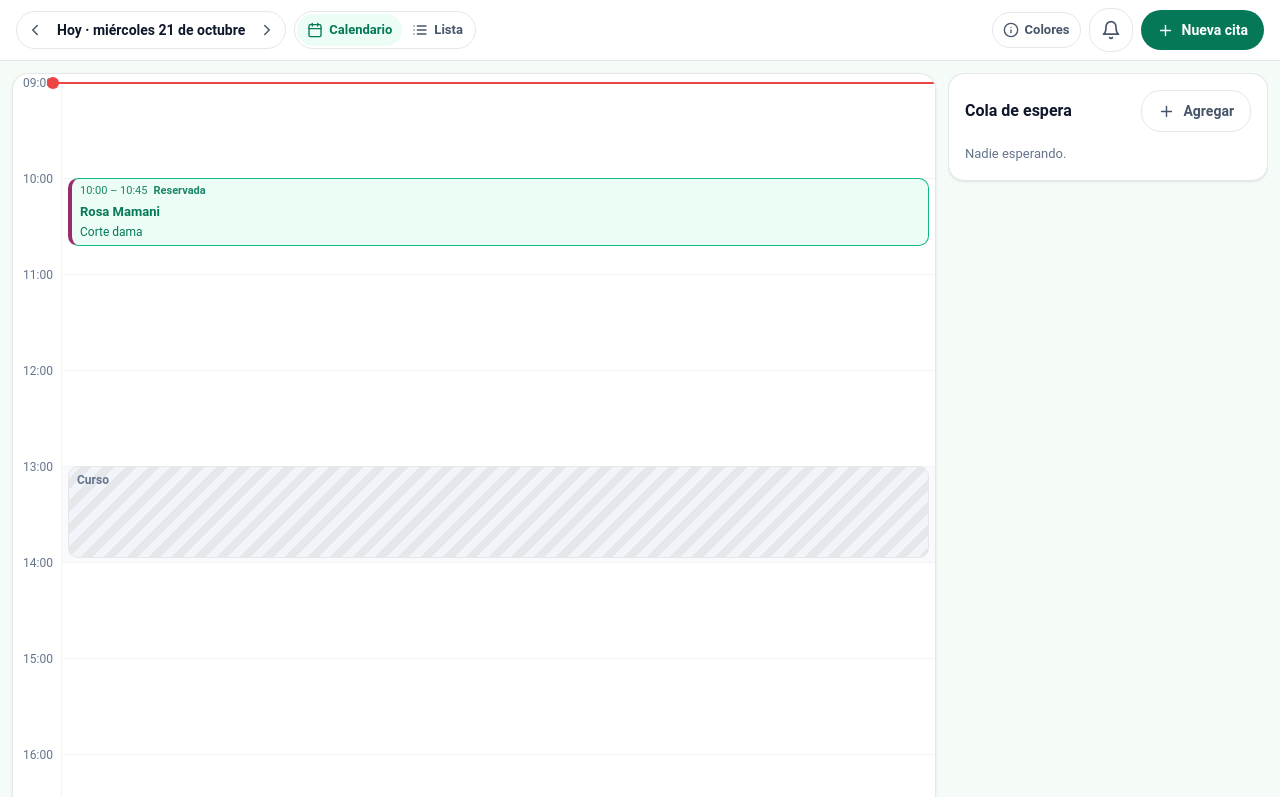
Test: A1 · agenda del día › arrastrar mueve la cita; con 409 vuelve a su lugar y avisa
The width and height of the screenshot is (1280, 797).
Press the mouse on the button with aria-label "Rosa Mamani, Corte dama" at {"x": 180, "y": 190}, box [68,178,929,246]
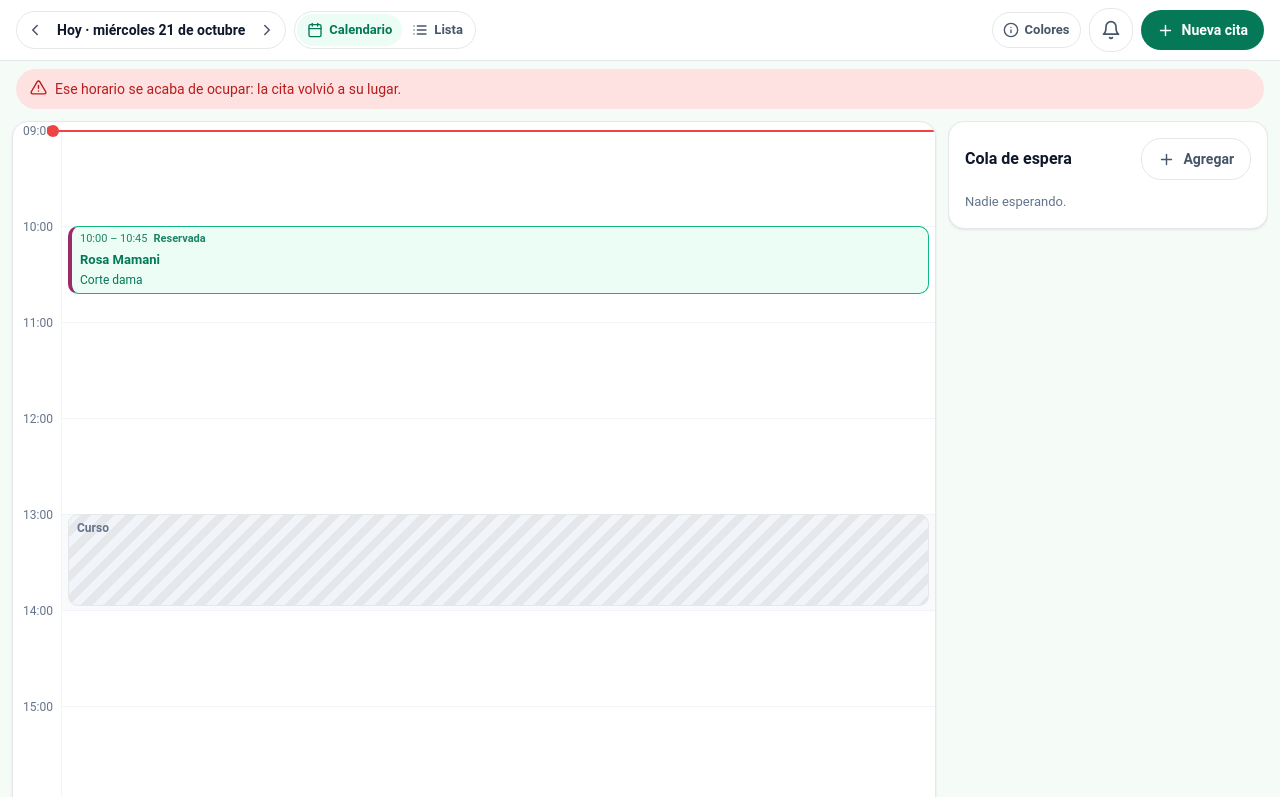
Result: the text "Ese horario se acaba de ocupar: la cita volvió a su lugar." is shown at [55,81,401,97]
